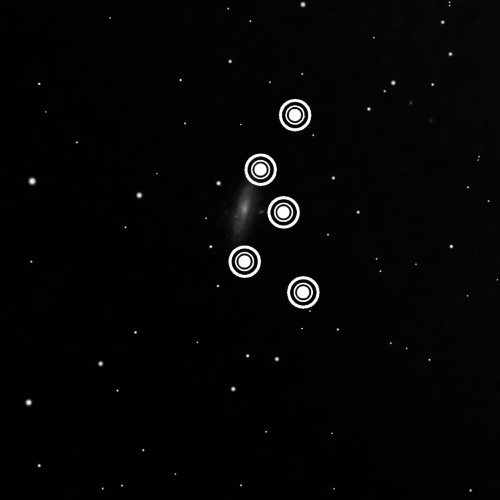cassiopeia: (220, 85, 328, 318)
